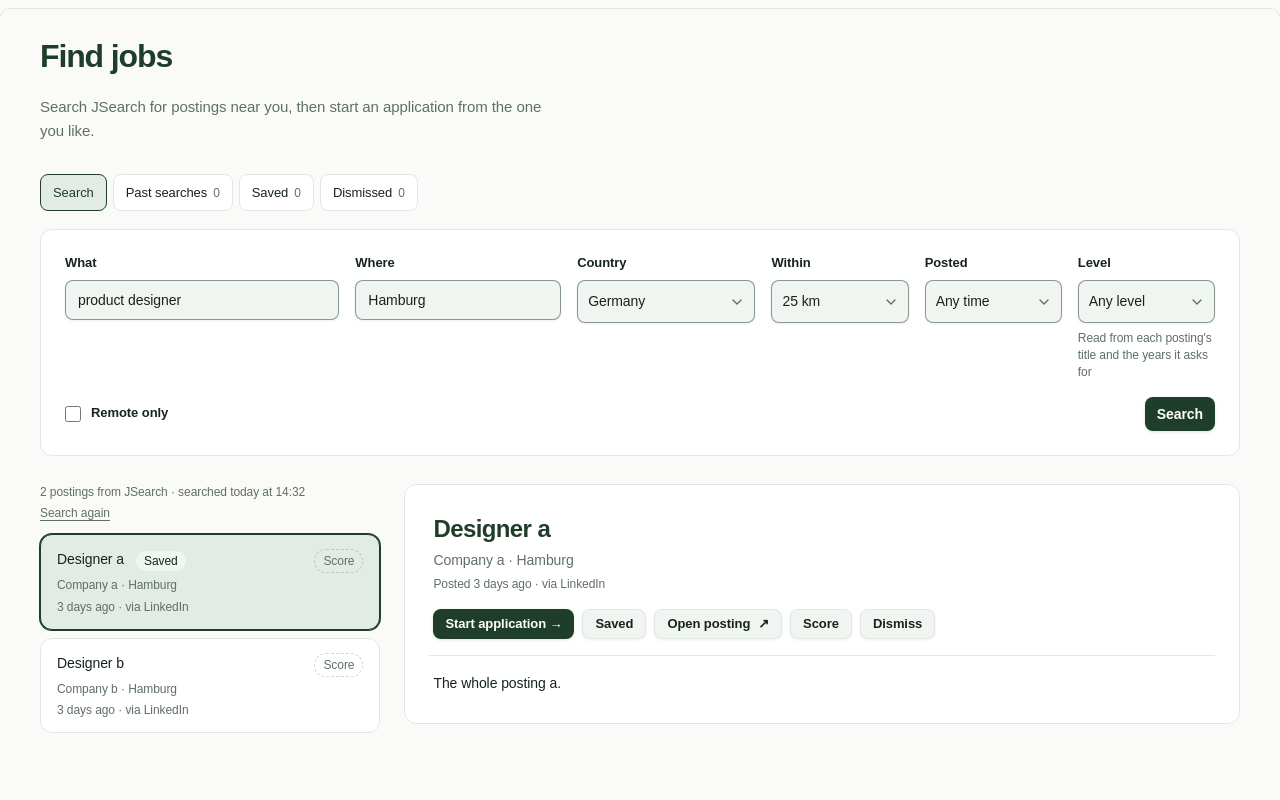
Test: the results › dismisses a posting, with Undo, and can show the dismissed ones
Later steps or results of the test are not shown.
Step 1. Click the button "Dismiss" → {"x": 898, "y": 624}, box [860,609,935,639]
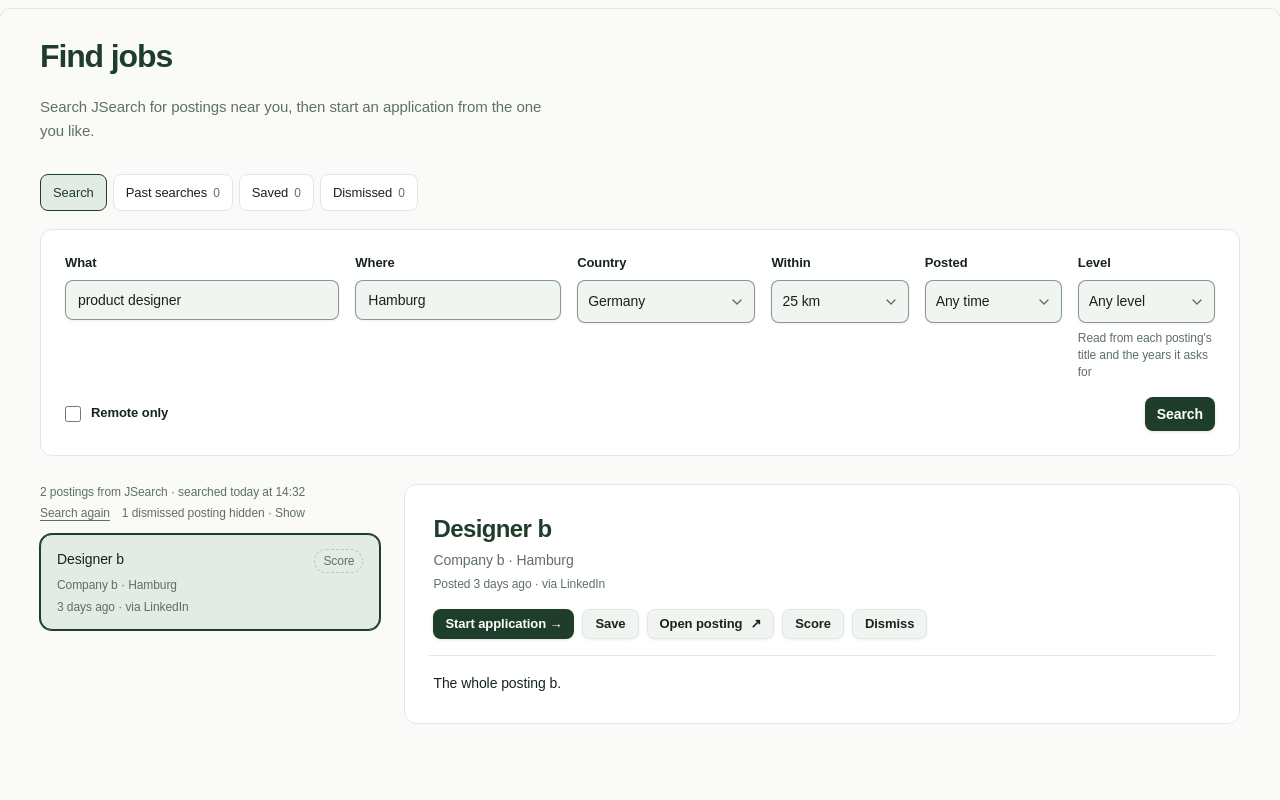
Result: the button "Designer a" is gone
Result: the heading "Designer b" is shown at [433,515,551,542]
Step 2. Click the button "1 dismissed posting hidden · Show" → {"x": 213, "y": 514}, box [122,505,305,522]
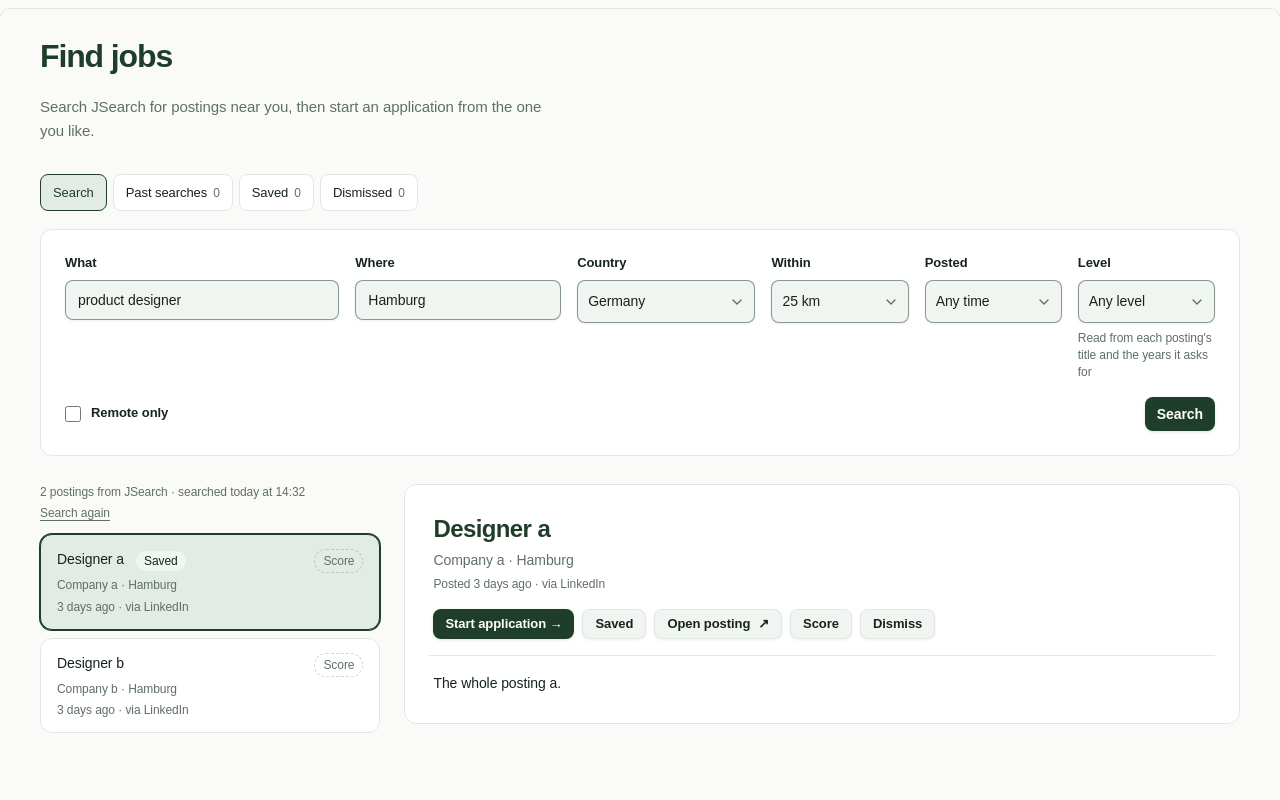
Result: the heading "Designer a" is shown at [433,515,550,542]
